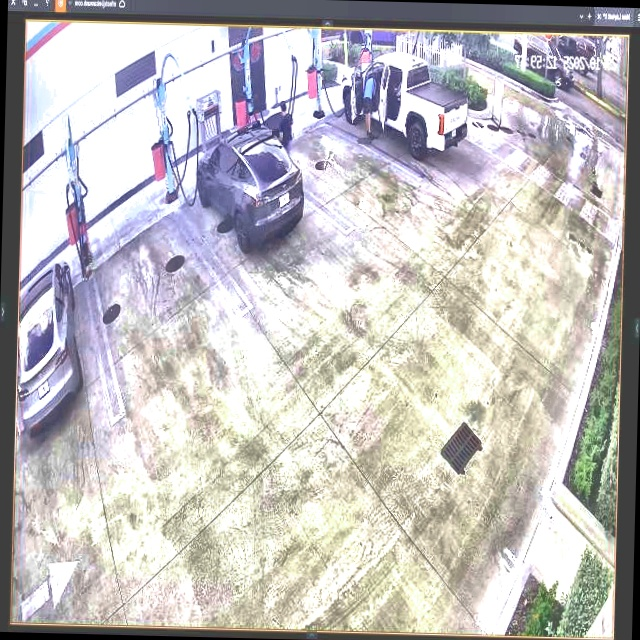Car: (193, 126, 307, 253), (341, 52, 469, 157)
